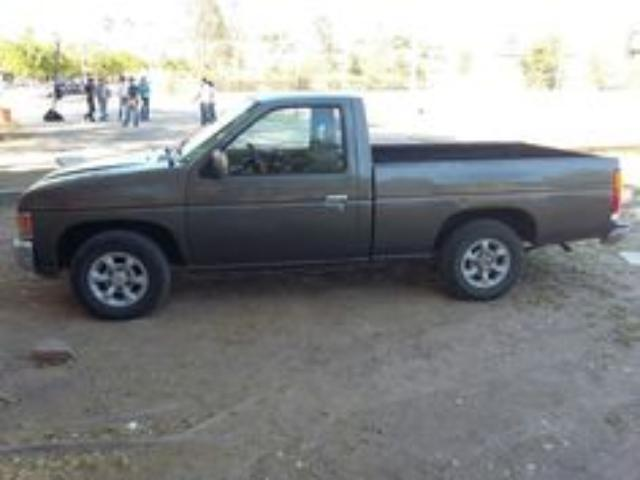pickup-truck: (12, 92, 625, 320)
